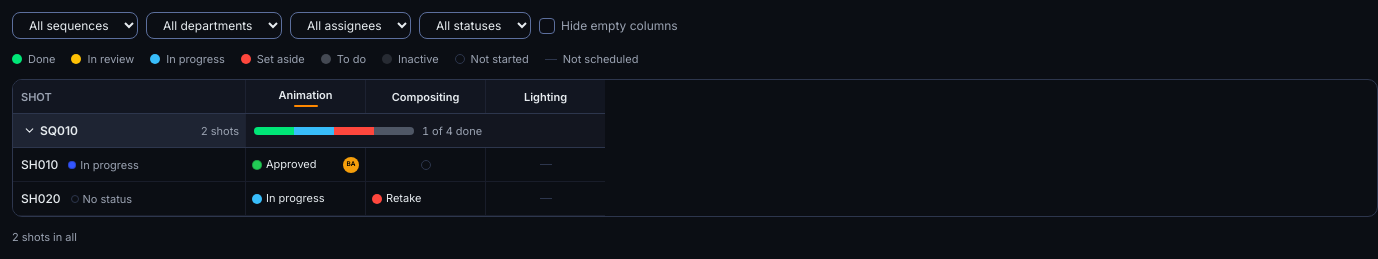
Scenario: ProductionGrid › hides the column that no shot has on its schedule, when asked
This screenshot has width=1378, height=259.
Expected: the column heading "Lighting" is shown, left=485, top=80, right=605, bottom=113
What coordinates should you click on to do the following:
click the checkbox named "Hide empty columns"
I would click on:
 (547, 26)
Its box is left=539, top=18, right=555, bottom=34.
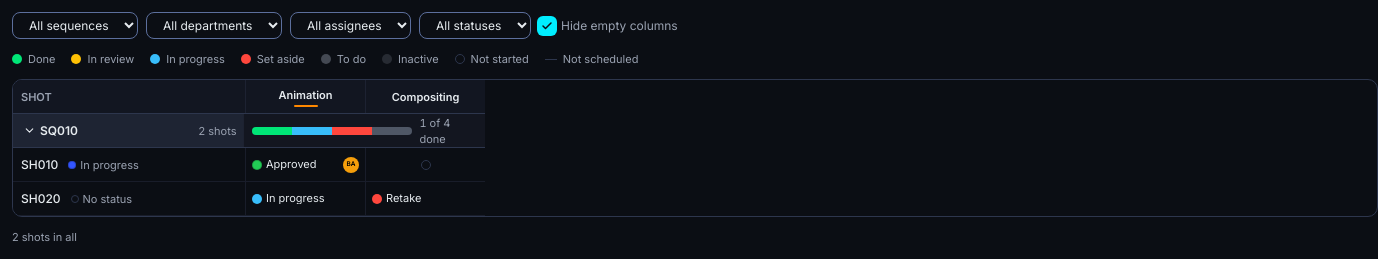
Expected: the column heading "Compositing" is shown, left=365, top=80, right=485, bottom=113
Now the text "Lighting" is gone
